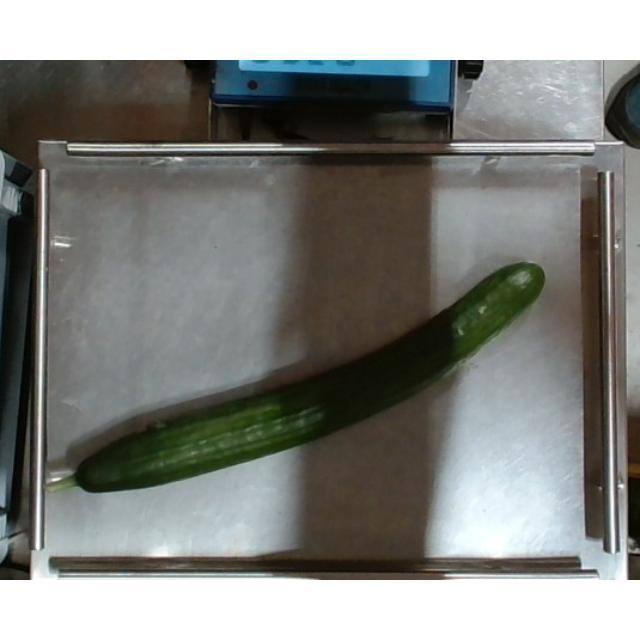cucumber: (49, 259, 557, 496)
